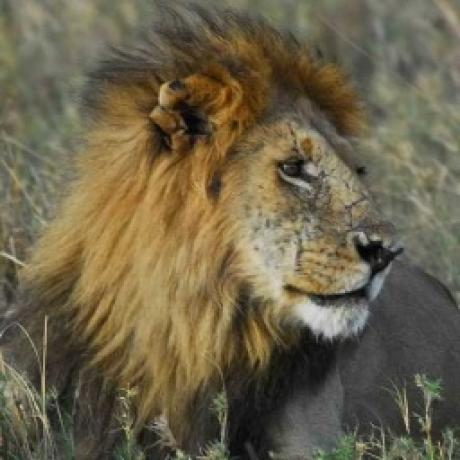Lion: (29, 4, 460, 448)
